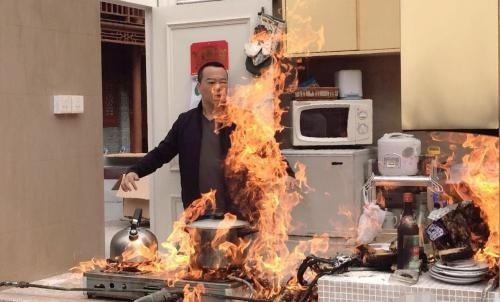fire: (196, 27, 324, 289), (431, 126, 500, 273), (332, 186, 391, 265)
